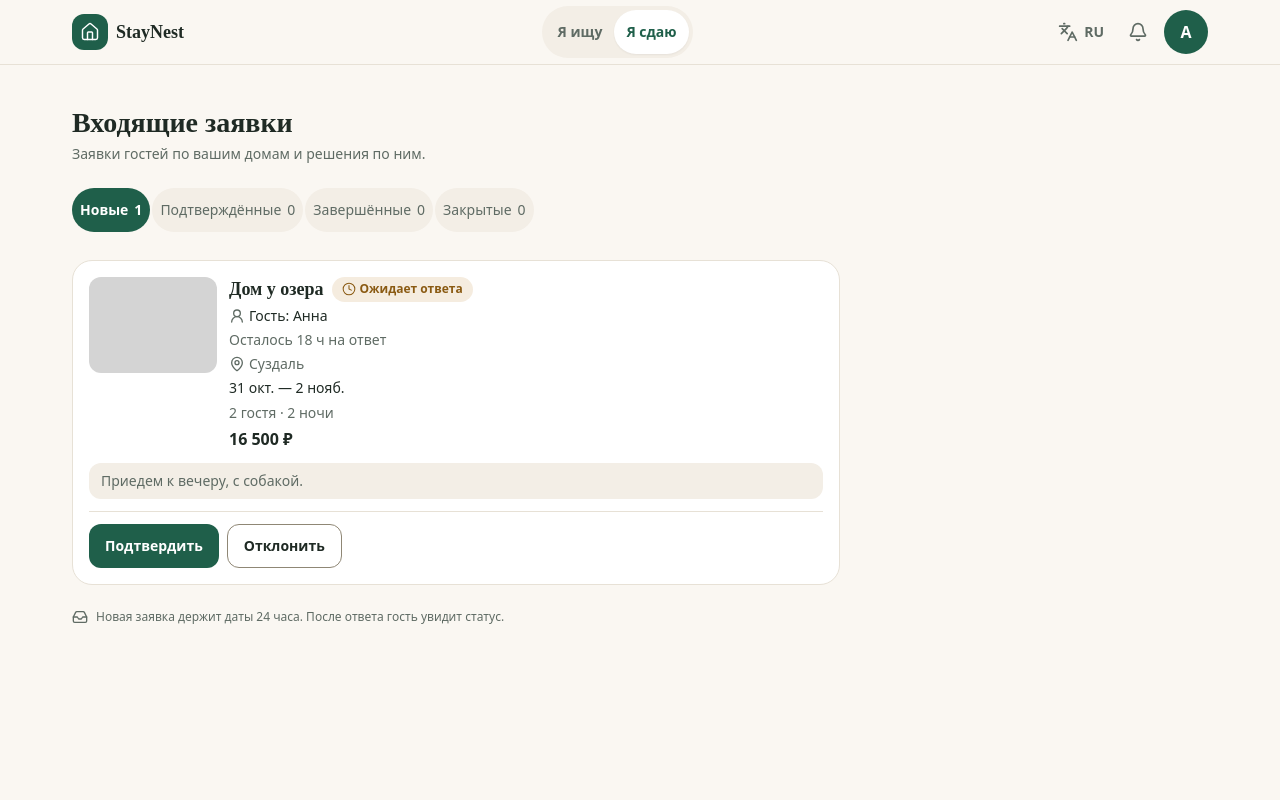
Test: App › отклоняет заявку с комментарием
This screenshot has width=1280, height=800.
Click the button "Отклонить" at (284, 546), box [227, 524, 342, 568]
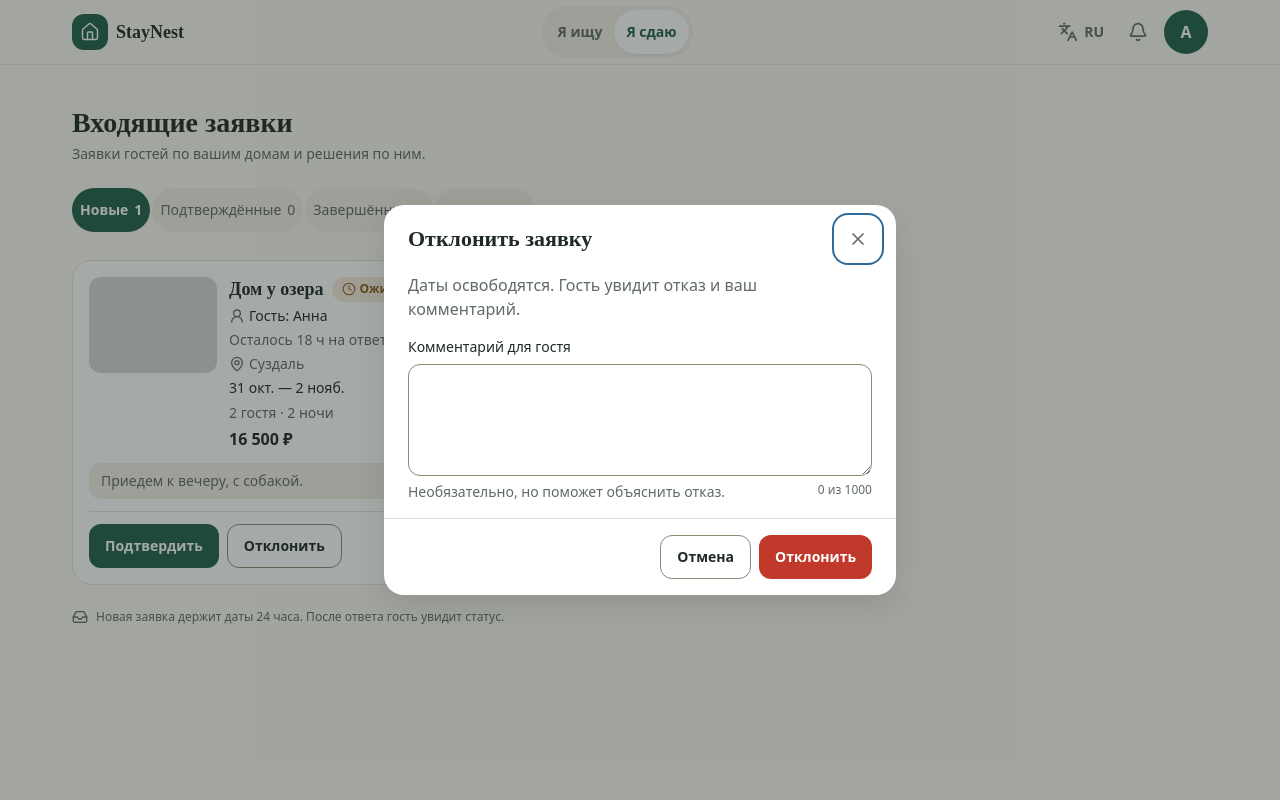
Type "Эти даты уже заняты" into the text box labelled "Комментарий для гостя" at (640, 420), box [408, 364, 872, 476]
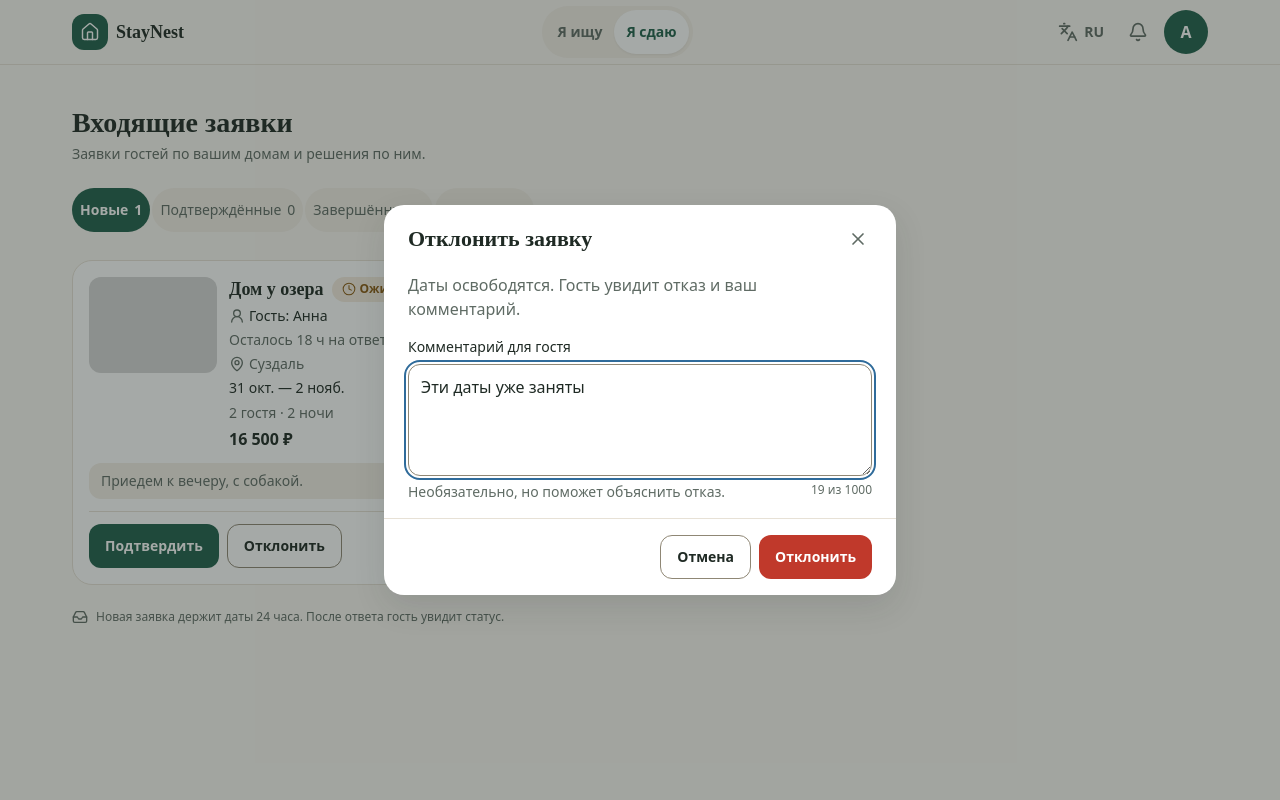
Click the button "Отклонить" at (816, 557), box [759, 535, 872, 579]
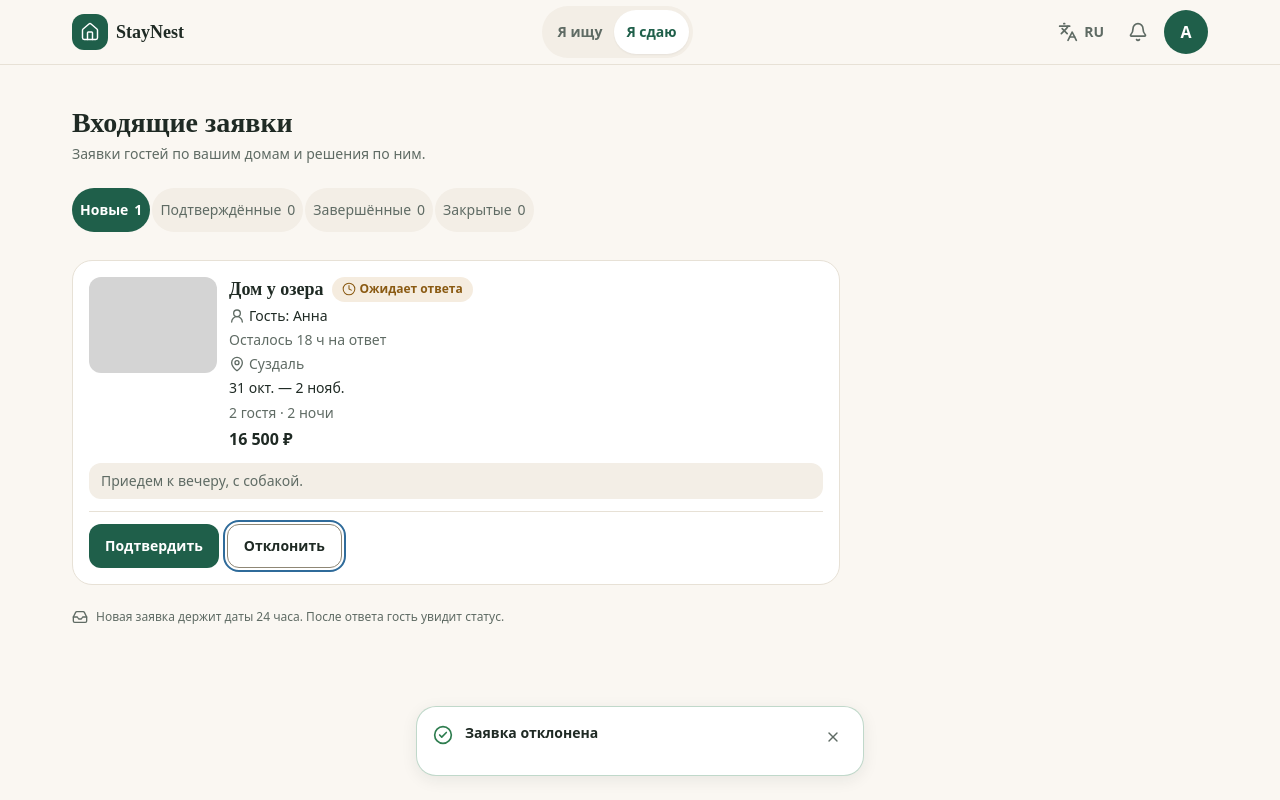
Expected: the text "Заявка отклонена" is shown, [465, 723, 598, 742]
